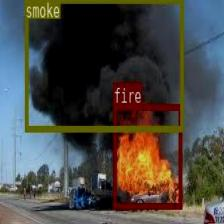fire: (112, 104, 182, 208)
smoke: (24, 0, 183, 131)
